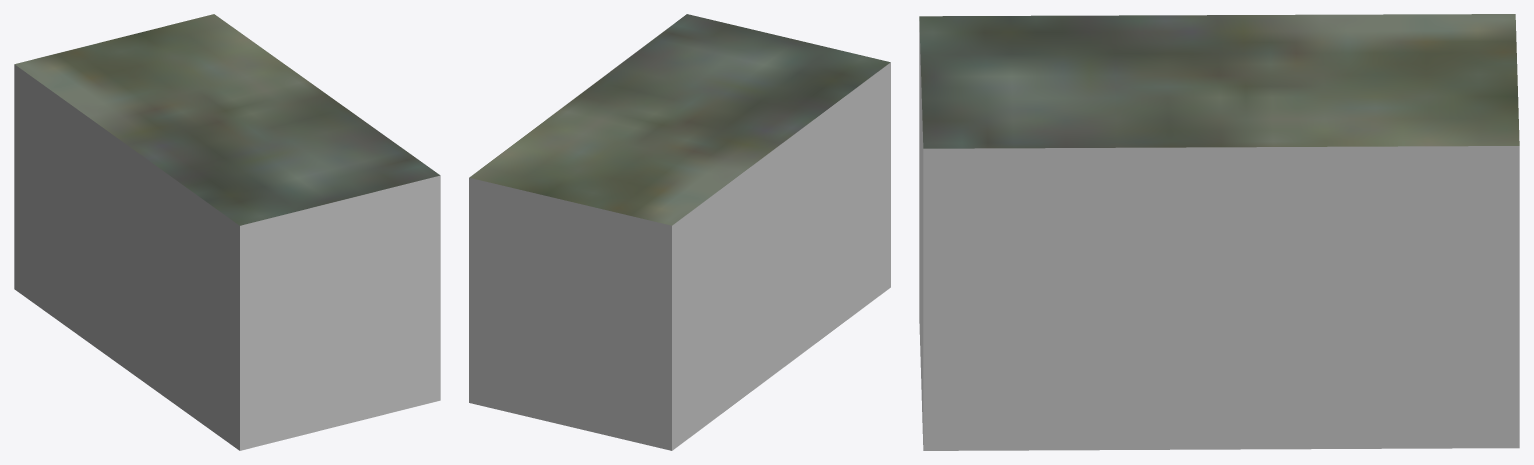
The model's file is DEBW_0010007TxdW.gltf.
3 renders of one model, left to right at view 1: azimuth 30°, elevation 25°; view 2: azimuth 150°, elevation 25°; view 3: azimuth 270°, elevation 25°, orthographic. The views are drawn at different scales.
Visible parts, largest first — view 1: Z_UP; view 2: Z_UP; view 3: Z_UP.
Part boxes in pixels (x1=…): Z_UP: x1=14, y1=14, x2=440, y2=450; Z_UP: x1=469, y1=14, x2=890, y2=450; Z_UP: x1=919, y1=14, x2=1519, y2=450.
Size of the model in its own units: 2.39 by 2.5 by 4.5.
Materials: 2 (1 with a texture image).
